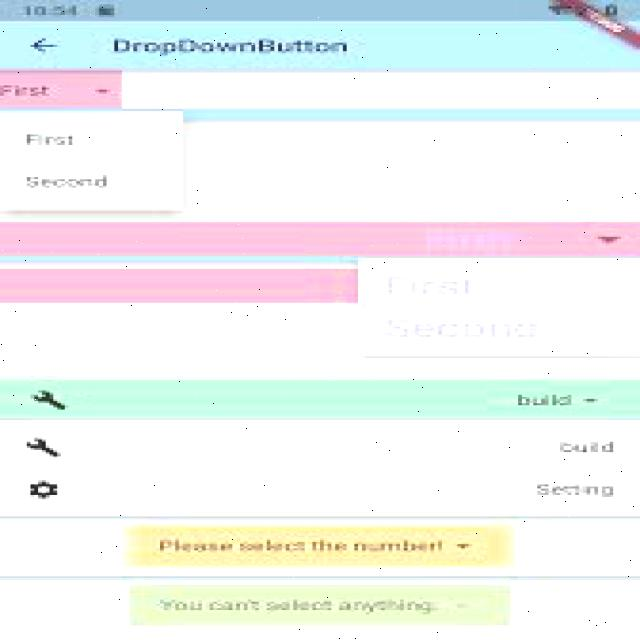button: (22, 28, 69, 63)
dropdownMenu: (128, 583, 510, 628), (130, 526, 514, 564), (422, 222, 640, 256), (496, 379, 620, 419), (0, 72, 122, 106)
icon: (15, 423, 67, 467), (22, 380, 72, 419), (14, 473, 66, 508)
input: (129, 78, 632, 104)
label: (107, 28, 365, 67)
menuItem: (373, 312, 548, 350), (370, 262, 483, 312), (525, 468, 630, 512), (550, 422, 637, 462), (22, 166, 119, 195), (15, 118, 90, 154)
